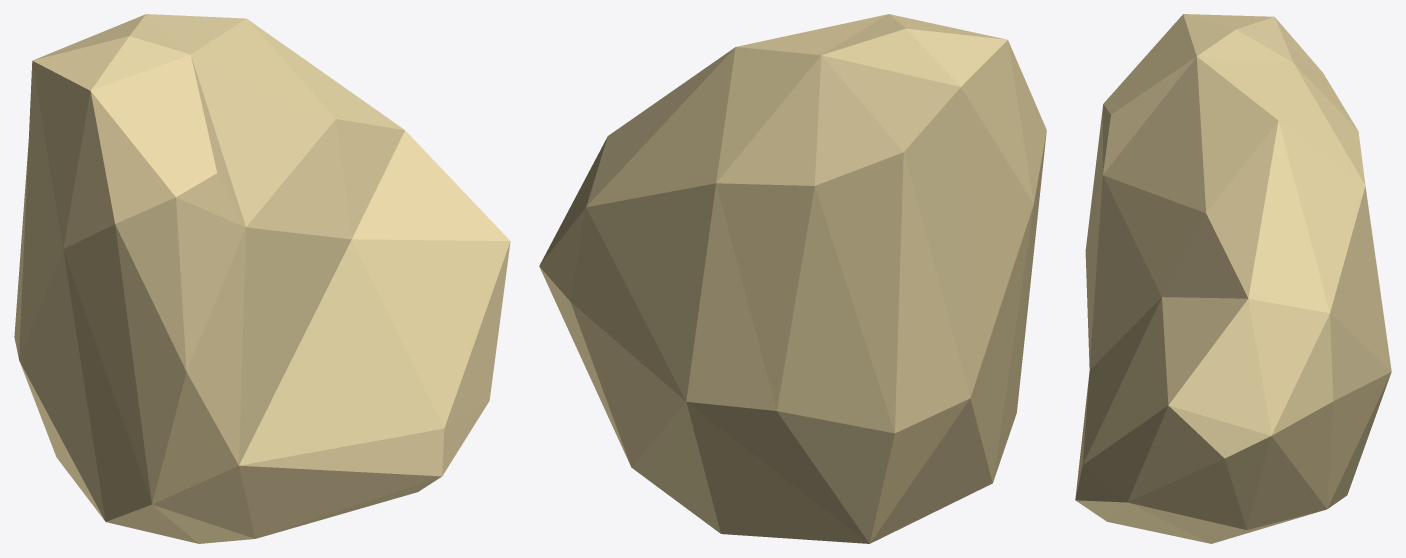
The model's file is Rock (30).fbx.
3 renders of one model, left to right at view 1: azimuth 30°, elevation 25°; view 2: azimuth 150°, elevation 25°; view 3: azimuth 270°, elevation 25°, orthographic. The views are drawn at different scales.
Visible parts, largest first — view 1: Asteroid29; view 2: Asteroid29; view 3: Asteroid29.
Part boxes in pixels (left/top/right/bottom): Asteroid29: left=14, top=14, right=510, bottom=543; Asteroid29: left=539, top=14, right=1046, bottom=543; Asteroid29: left=1075, top=14, right=1391, bottom=543.
Size of the model in its own units: 208 by 220 by 146.
